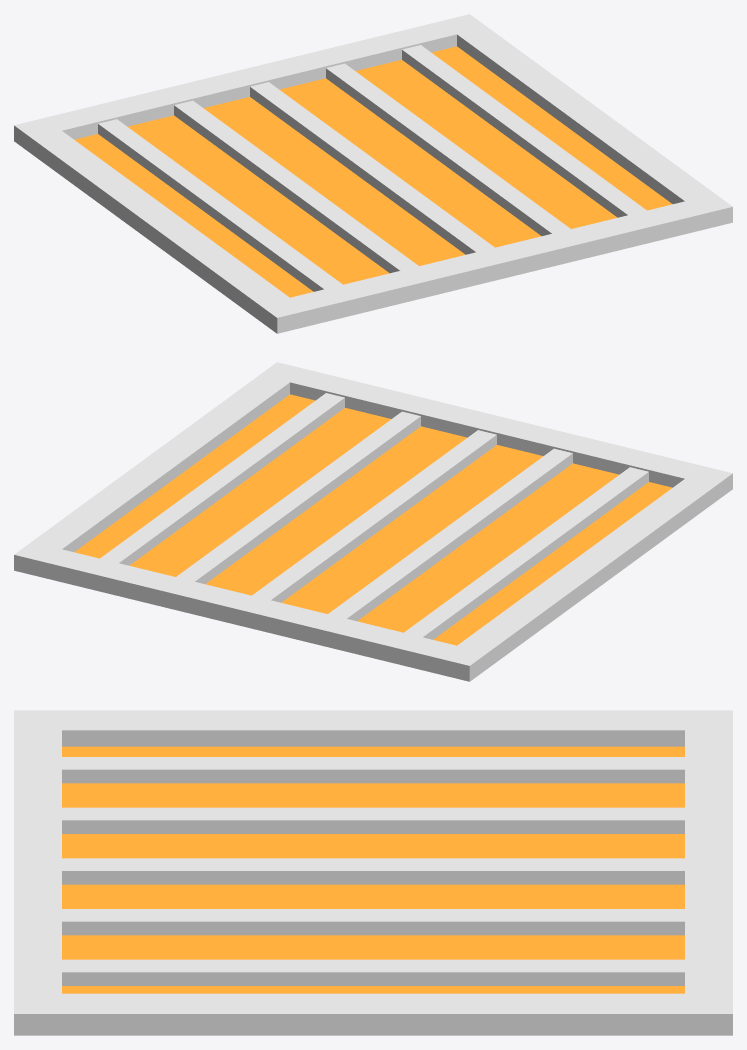
File: wa_ember_grate.glb
3 renders of one model, top to bottom at view 1: azimuth 30°, elevation 25°; view 2: azimuth 150°, elevation 25°; view 3: azimuth 270°, elevation 25°, orthographic. The views are drawn at different scales.
Visible parts, largest first — view 1: wa_ember_grate; view 2: wa_ember_grate; view 3: wa_ember_grate.
Part boxes in pixels (<box>): wa_ember_grate: <box>14,14,732,333</box>; wa_ember_grate: <box>14,362,732,681</box>; wa_ember_grate: <box>14,710,732,1035</box>.
Bounding box in the file's own units: 1.2 × 0.04 × 1.2.
